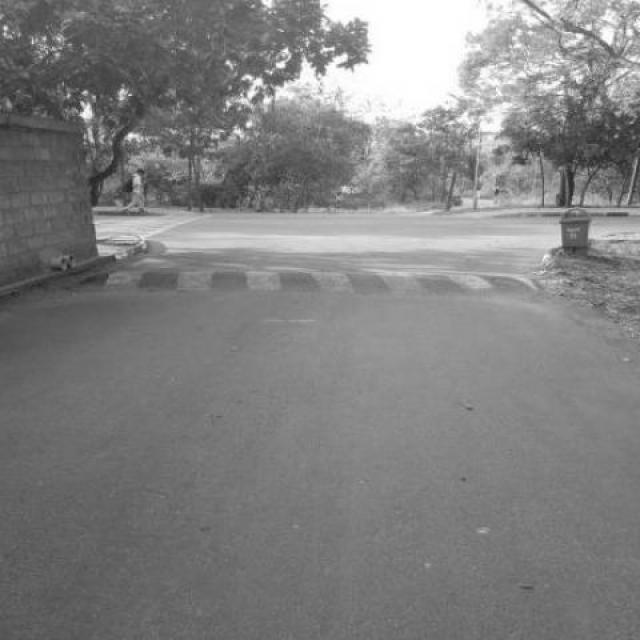Speed Bump: (78, 270, 540, 294)
